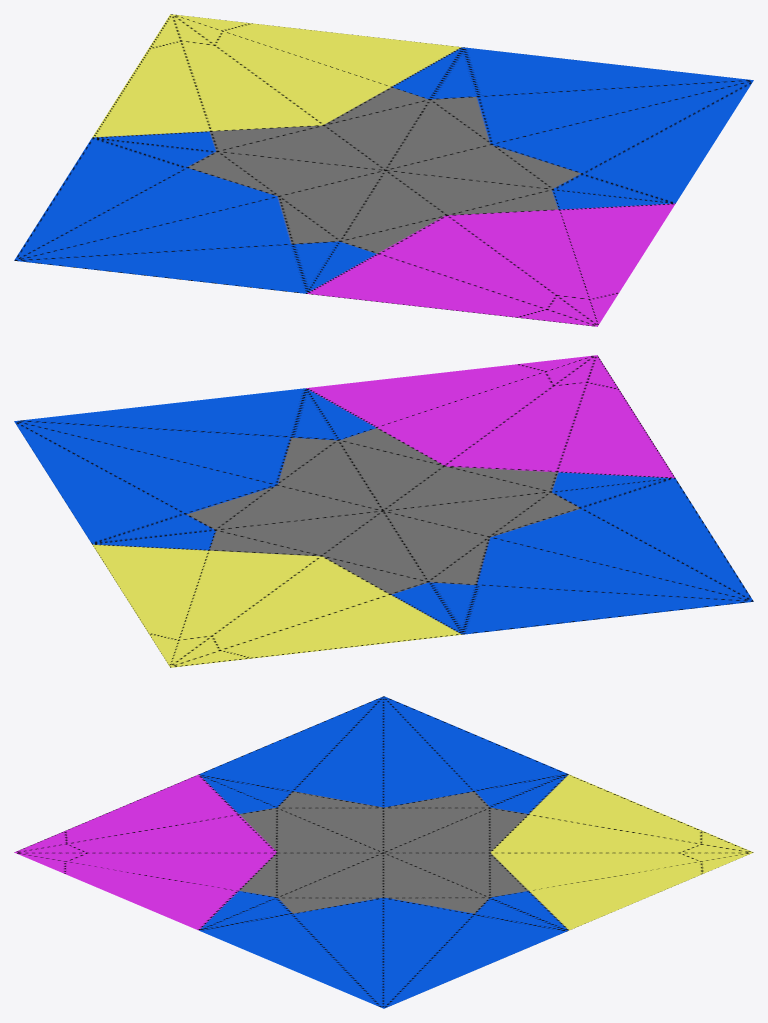
File: paper-bird.glb
3 renders of one model, top to bottom at view 1: azimuth 30°, elevation 25°; view 2: azimuth 150°, elevation 25°; view 3: azimuth 270°, elevation 25°, orthographic. The views are drawn at different scales.
Parts seen in each view (by area): view 1: Paper; view 2: Paper; view 3: Paper.
Part boxes in pixels (x1=…): Paper: x1=14, y1=14, x2=753, y2=326; Paper: x1=14, y1=355, x2=753, y2=667; Paper: x1=14, y1=696, x2=753, y2=1008.
Size of the model in its own units: 28.28 by 3.58e-07 by 28.28.
Materials: 1 (1 with a texture image).
